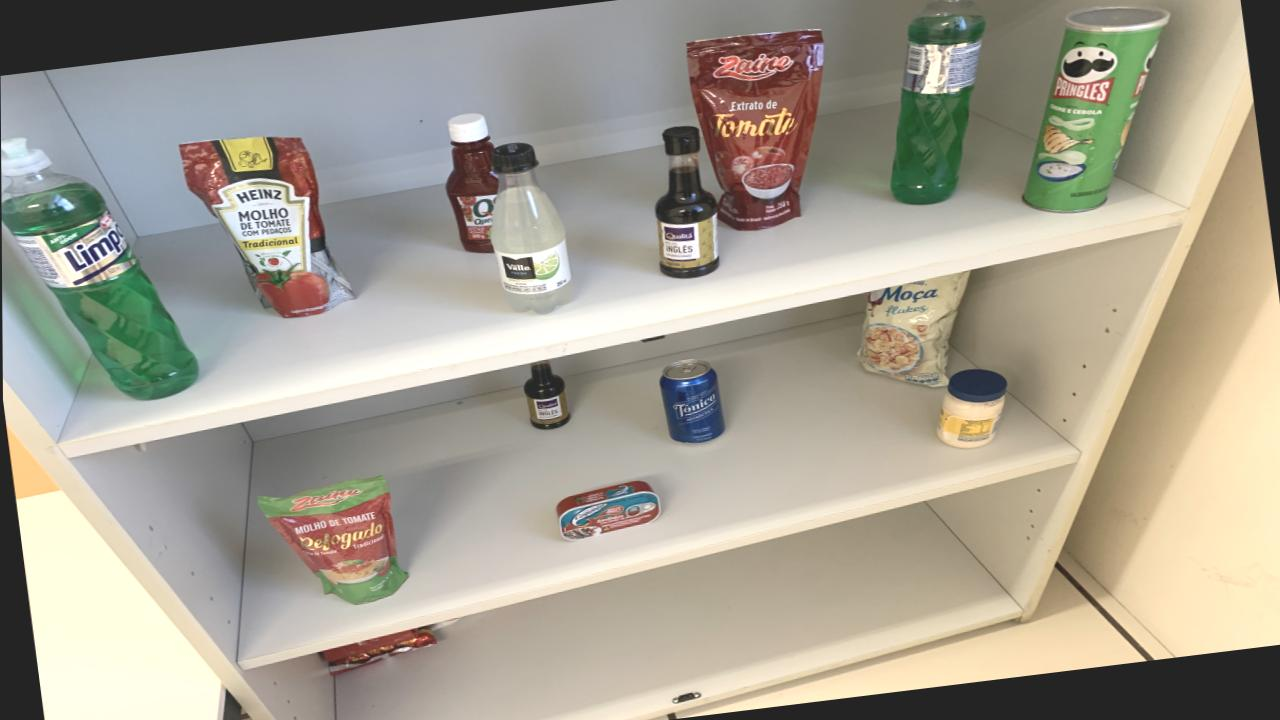Detergent-Cleanup_Items: (1, 138, 198, 400), (891, 0, 986, 205)
English_Sauce-Pantry_Items: (655, 126, 720, 278), (522, 361, 569, 429)
Flakes-Snacks: (858, 271, 969, 388)
Ketchup-Pantry_Items: (446, 112, 499, 253)
Mayonnaise-Pantry_Items: (936, 368, 1006, 449)
Pringles-Snacks: (1023, 6, 1170, 213)
Soda-Drinks: (489, 142, 573, 314)
Tomato_Sauce-Pantry_Items: (179, 136, 354, 318), (687, 29, 825, 231), (257, 476, 408, 605)
Tonic-Drinks: (659, 359, 724, 443)
Tuna_Can-Pantry_Items: (555, 481, 659, 541)
